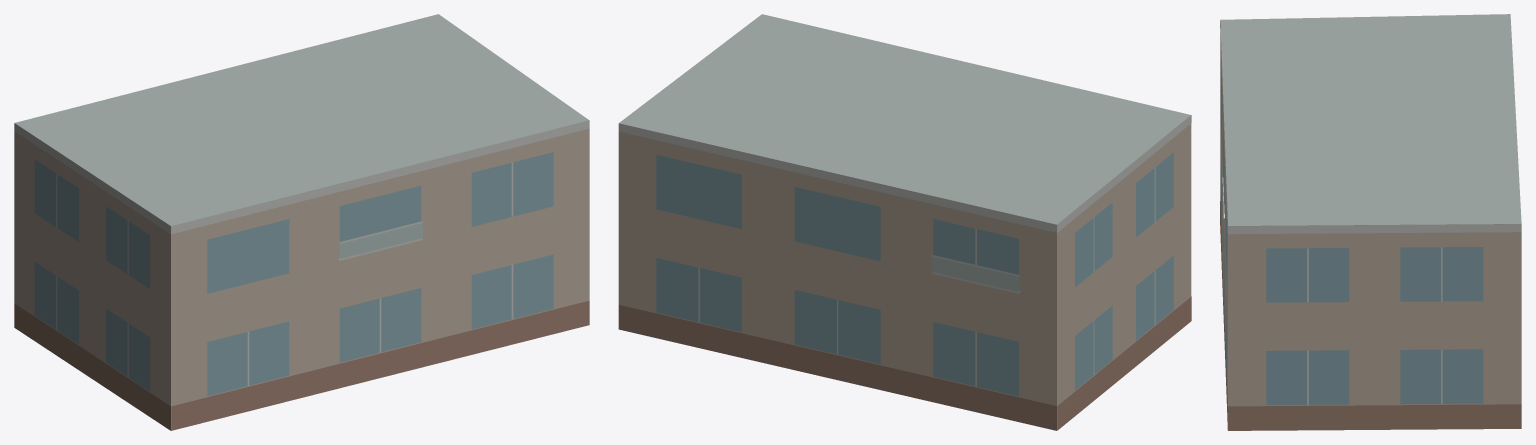
File: survey-upis-33026057.glb
3 renders of one model, left to right at view 1: azimuth 30°, elevation 25°; view 2: azimuth 150°, elevation 25°; view 3: azimuth 270°, elevation 25°, orthographic.
Parts seen in each view (by area): view 1: survey-upis-33026057.tmp; view 2: survey-upis-33026057.tmp; view 3: survey-upis-33026057.tmp.
Boxes of the visible parts, bbox=[...] form: survey-upis-33026057.tmp: bbox=[14, 14, 589, 430]; survey-upis-33026057.tmp: bbox=[618, 14, 1191, 430]; survey-upis-33026057.tmp: bbox=[1220, 14, 1521, 430].
Size of the model in its own units: 13.55 by 6.1 by 8.14.
